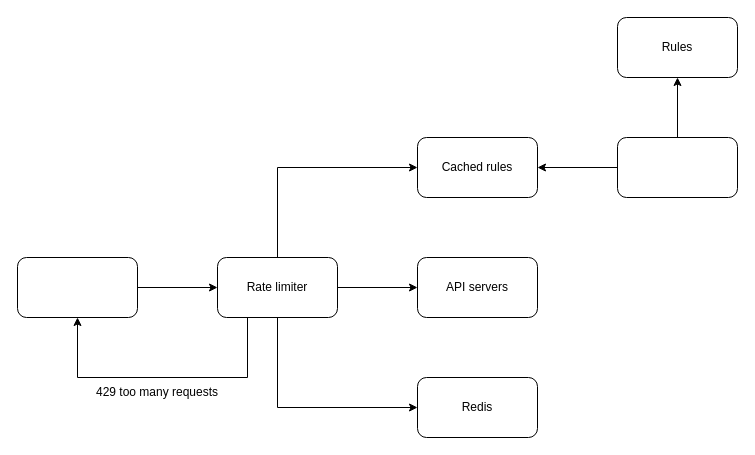
The diagram is 755 pixels wide and 455 high, and some of its shapes have lost their labels. Here are the shapes that lost their labels. From the top down, the centre of each, then its label:
the point at 677,167: Workers
the point at 77,287: Client
